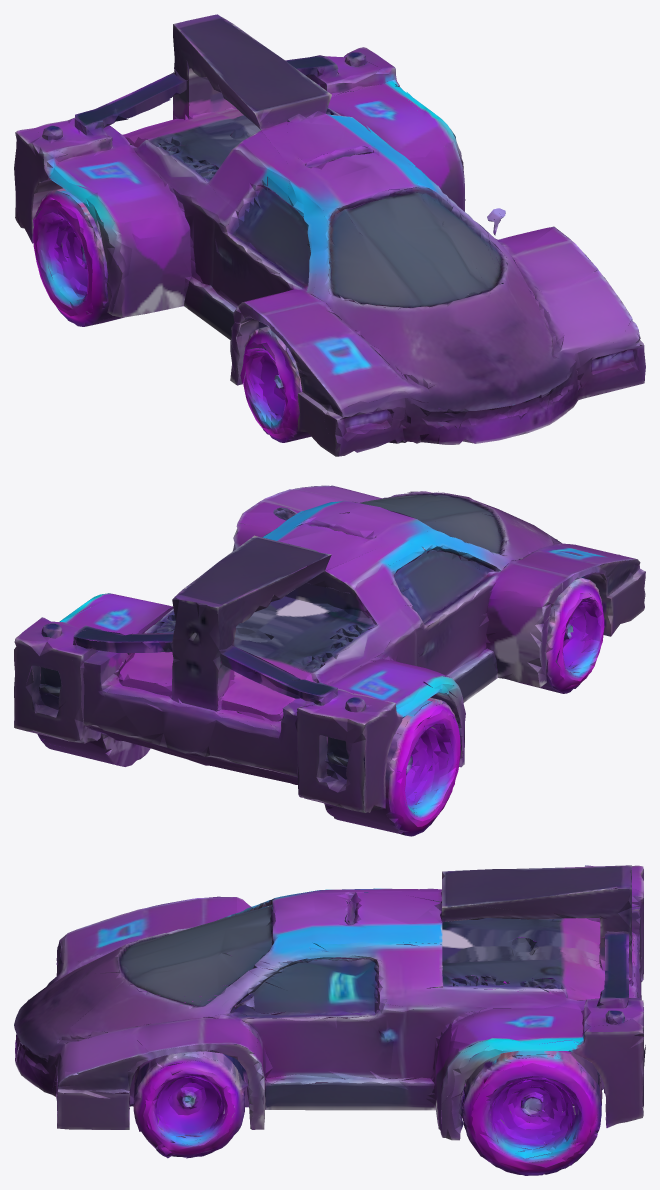
File: v8supercar_rocket.glb
3 renders of one model, top to bottom at view 1: azimuth 30°, elevation 25°; view 2: azimuth 150°, elevation 25°; view 3: azimuth 270°, elevation 25°, orthographic. The views are drawn at different scales.
Parts seen in each view (by area): view 1: Rocket_V8_Supercar; view 2: Rocket_V8_Supercar; view 3: Rocket_V8_Supercar.
Part boxes in pixels (x1,y1,x2,y2): Rocket_V8_Supercar: [14, 14, 645, 456]; Rocket_V8_Supercar: [14, 485, 645, 836]; Rocket_V8_Supercar: [14, 865, 645, 1175].
Size of the model in its own units: 0.3945 by 0.2273 by 0.6009.
1 material, 1 textured.
